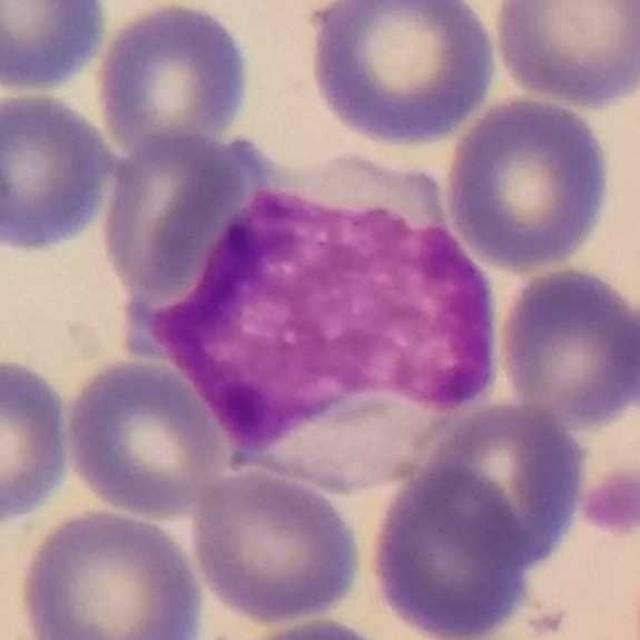Monocyte: (134, 150, 509, 484)
Platelets: (574, 460, 640, 541)
RBC: (411, 396, 592, 582), (439, 92, 616, 274), (364, 459, 538, 640), (300, 0, 503, 150), (186, 464, 367, 626), (60, 354, 228, 521), (12, 503, 209, 640), (97, 126, 247, 302), (91, 0, 255, 157), (494, 262, 640, 428), (0, 86, 121, 257), (487, 0, 638, 111), (0, 352, 76, 531), (0, 0, 112, 94), (218, 612, 411, 640)
